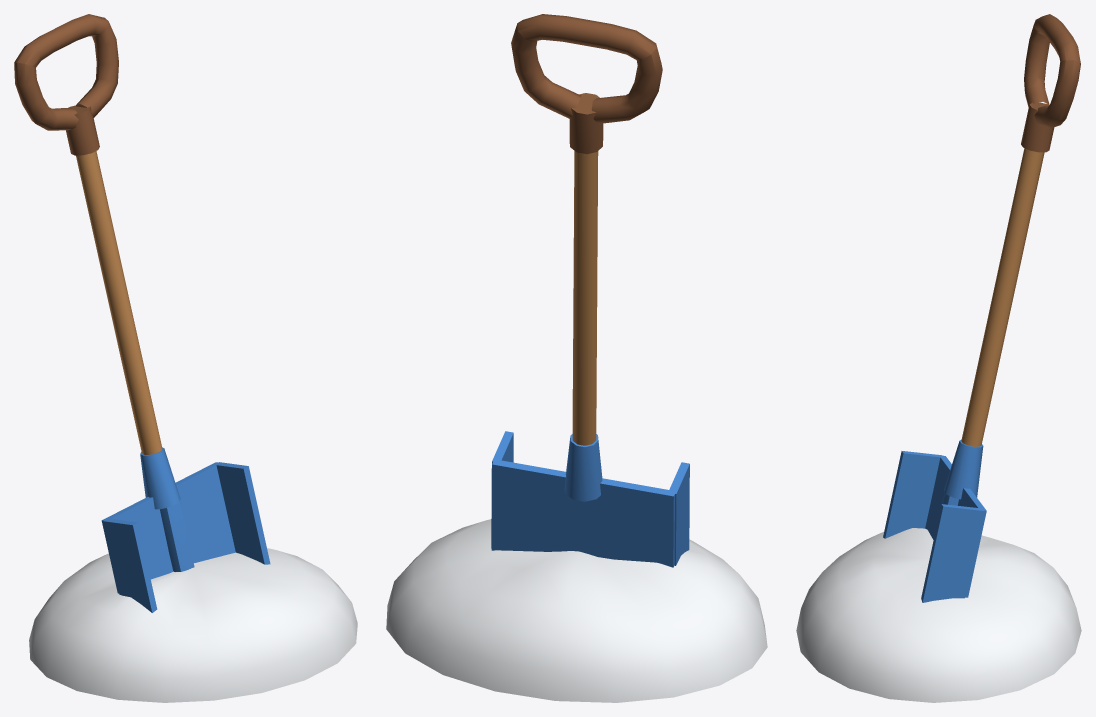
Rendered from SnowShovel.glb.
3 renders of one model, left to right at view 1: azimuth 30°, elevation 25°; view 2: azimuth 150°, elevation 25°; view 3: azimuth 270°, elevation 25°, orthographic. The views are drawn at different scales.
Visible parts, largest first — view 1: SnowShovel; view 2: SnowShovel; view 3: SnowShovel.
Part boxes in pixels (left/top/right/bottom): SnowShovel: left=14, top=14, right=357, bottom=702; SnowShovel: left=386, top=14, right=767, bottom=702; SnowShovel: left=796, top=14, right=1081, bottom=702.
Size of the model in its own units: 5.5 by 10.36 by 4.68.
1 material, 1 textured.
